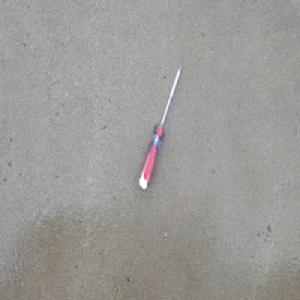Screwdriver: (137, 61, 182, 191)
